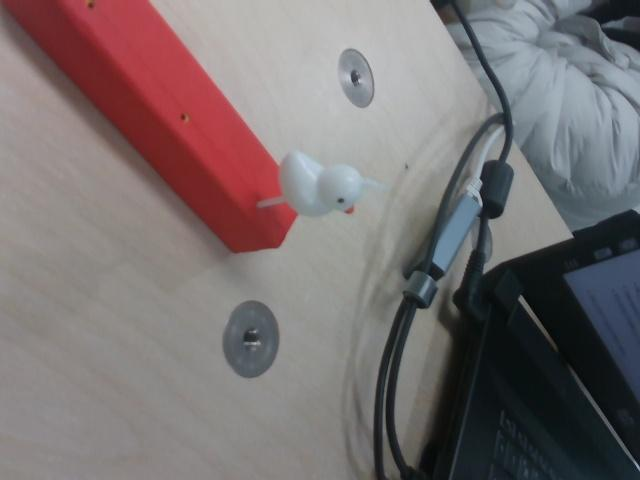w_duck: (254, 141, 370, 228)
